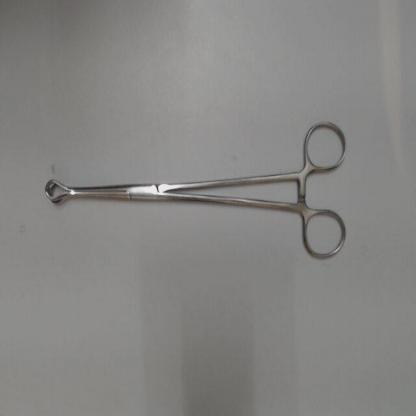8 Babcock Tissue Forceps: (40, 112, 350, 267)
